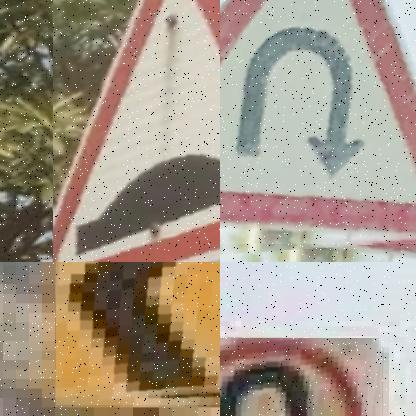Left bend: (56, 262, 220, 404)
U-Turn: (220, 0, 416, 240), (220, 339, 381, 416)
